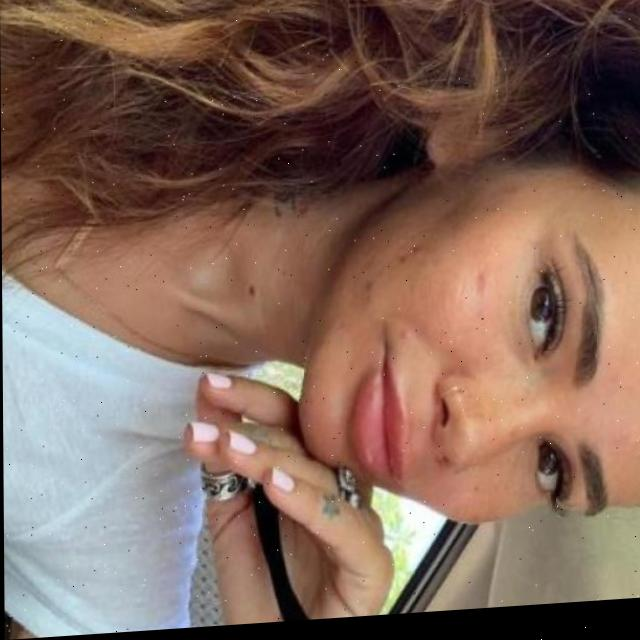Acne: (401, 252, 428, 265), (474, 278, 486, 289)
